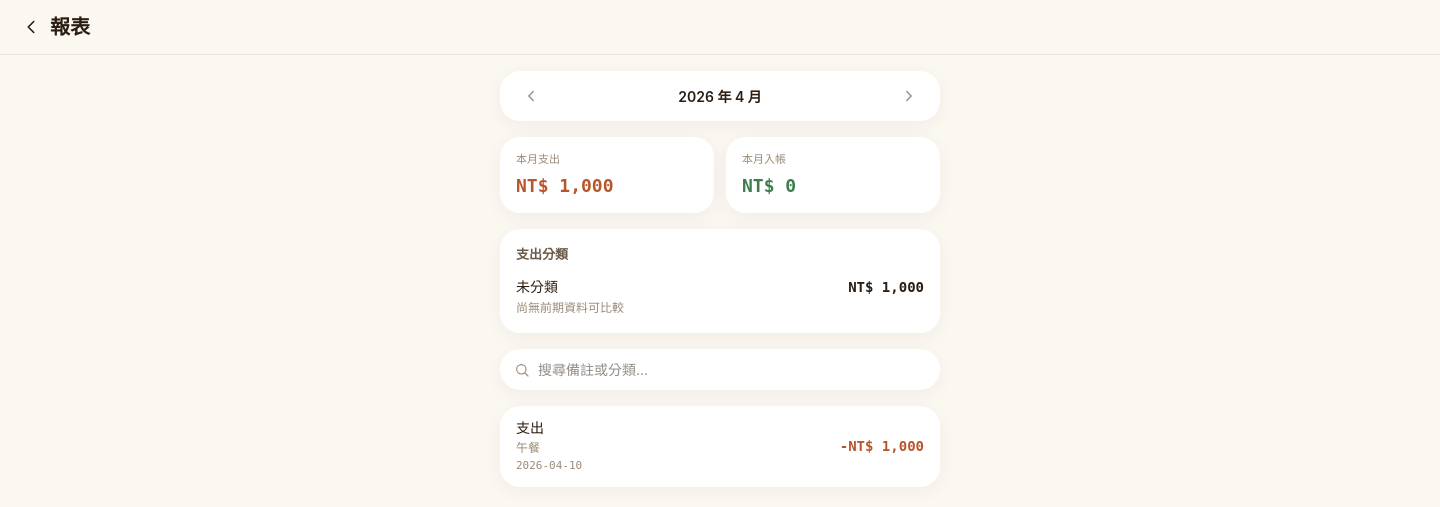
Scenario: ReportView › 搜尋功能 › 無搜尋結果時顯示提示
The width and height of the screenshot is (1440, 507).
Type "xyz" into the field with placeholder "搜尋備註或分類..." at [732, 370], box [538,359,926,380]
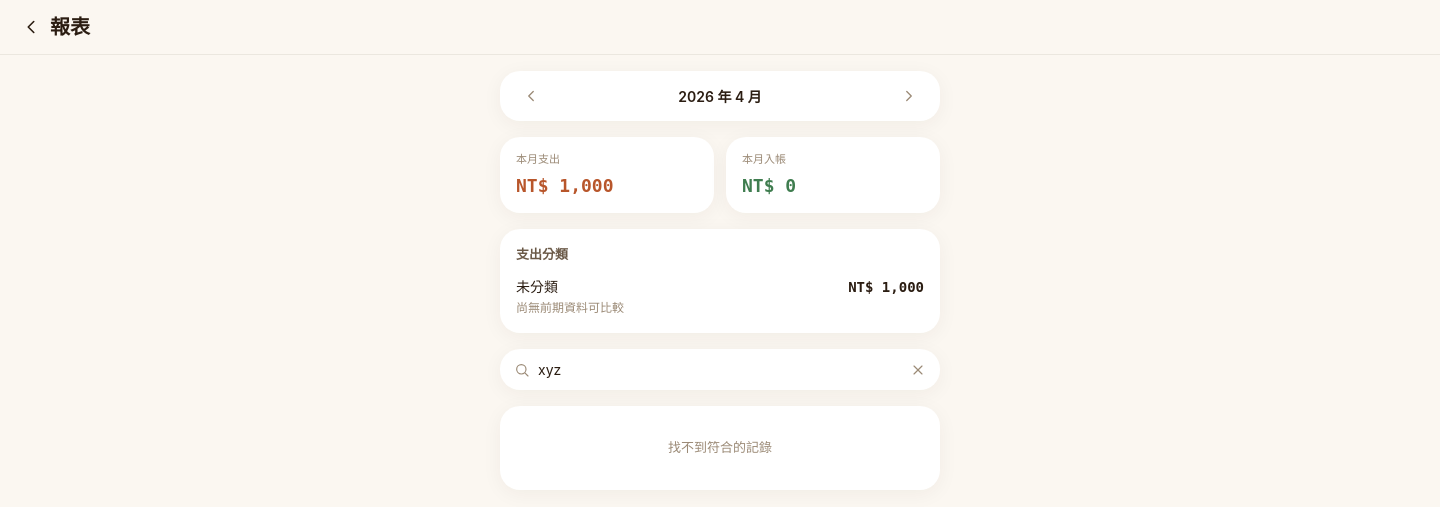
expect the text "找不到符合的記錄" is shown: met, box [668,439,772,455]
